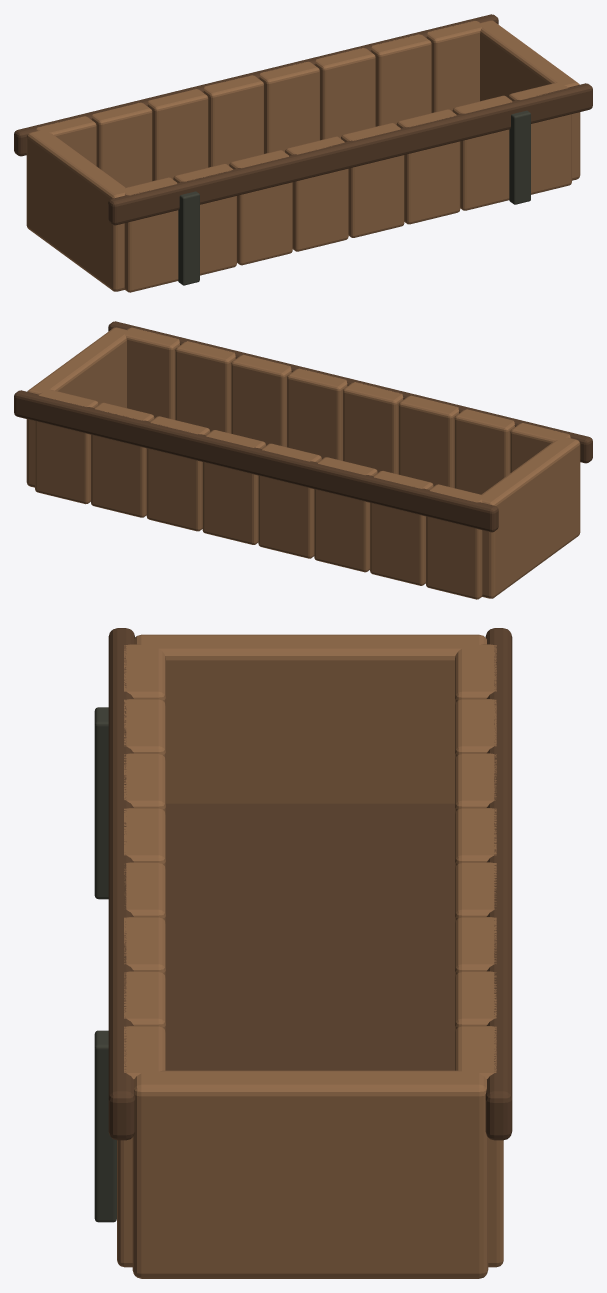
File: SM_HH_Q3_WindowPlanter.fbx
3 views of the same model, one above another, from view 1: azimuth 30°, elevation 25°; view 2: azimuth 150°, elevation 25°; view 3: azimuth 270°, elevation 25° (orthographic). The views are drawn at different scales.
Parts seen in each view (by area): view 1: HH_Q3_WindowPlanter; view 2: HH_Q3_WindowPlanter; view 3: HH_Q3_WindowPlanter.
Boxes of the visible parts, box(x1,y1,x2,y2) form: HH_Q3_WindowPlanter: box(14, 14, 592, 292); HH_Q3_WindowPlanter: box(14, 321, 592, 599); HH_Q3_WindowPlanter: box(94, 628, 512, 1278).
Bounding box in the file's own units: 0.4695 × 1.25 × 0.2425.
